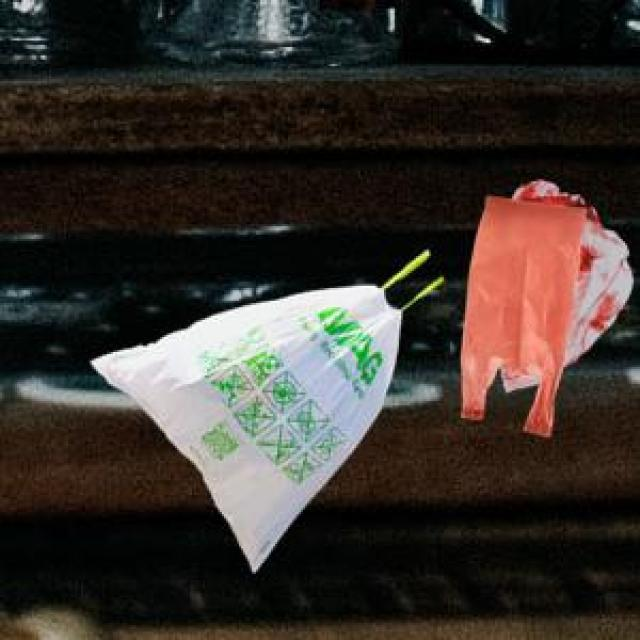Single-layer Plastic: (78, 219, 458, 585), (451, 140, 638, 457)
